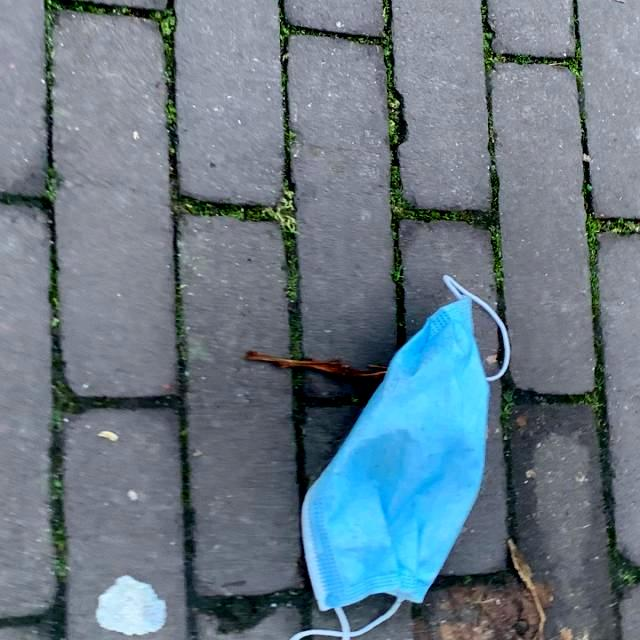Mask: (296, 270, 512, 640)
